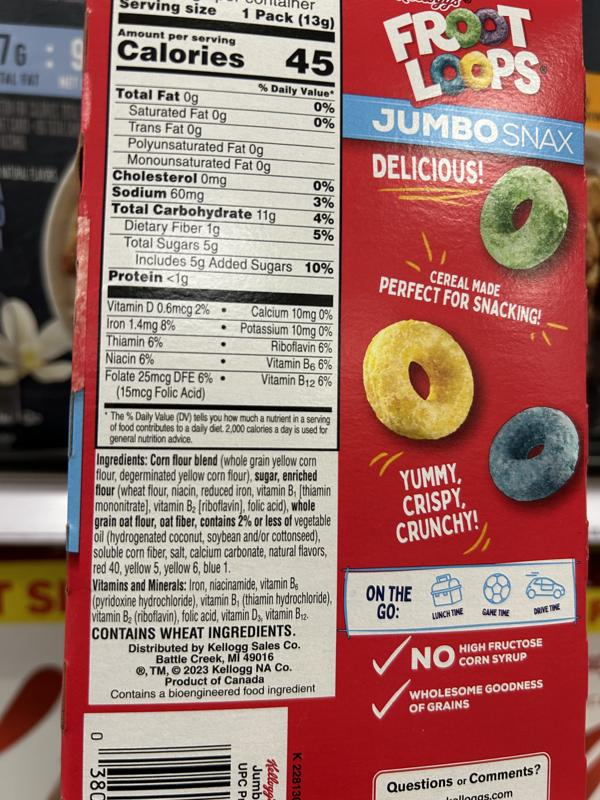ingredients: (92, 452, 333, 576)
